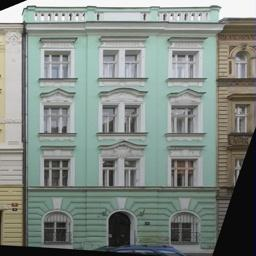building: (21, 0, 220, 237)
